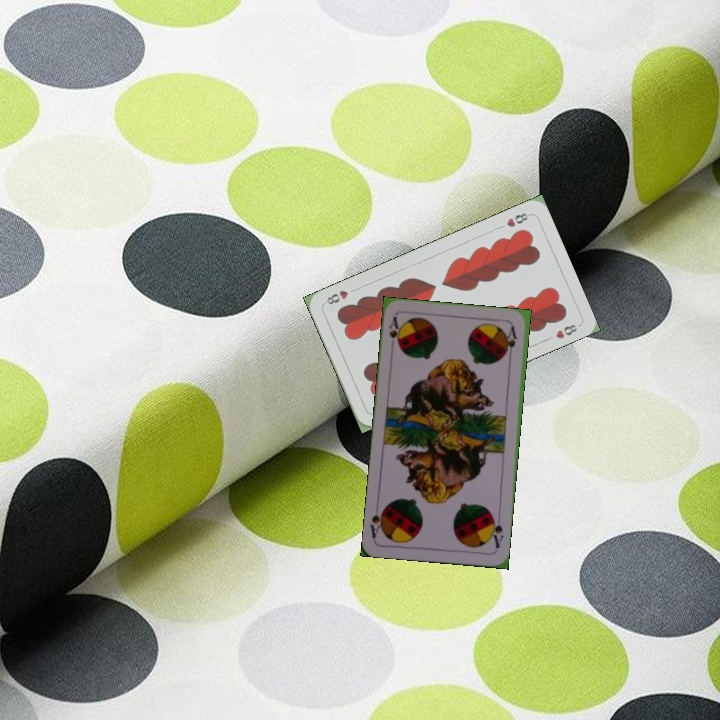H8: (502, 209, 533, 230)
SA: (486, 510, 506, 551), (384, 312, 404, 353)
